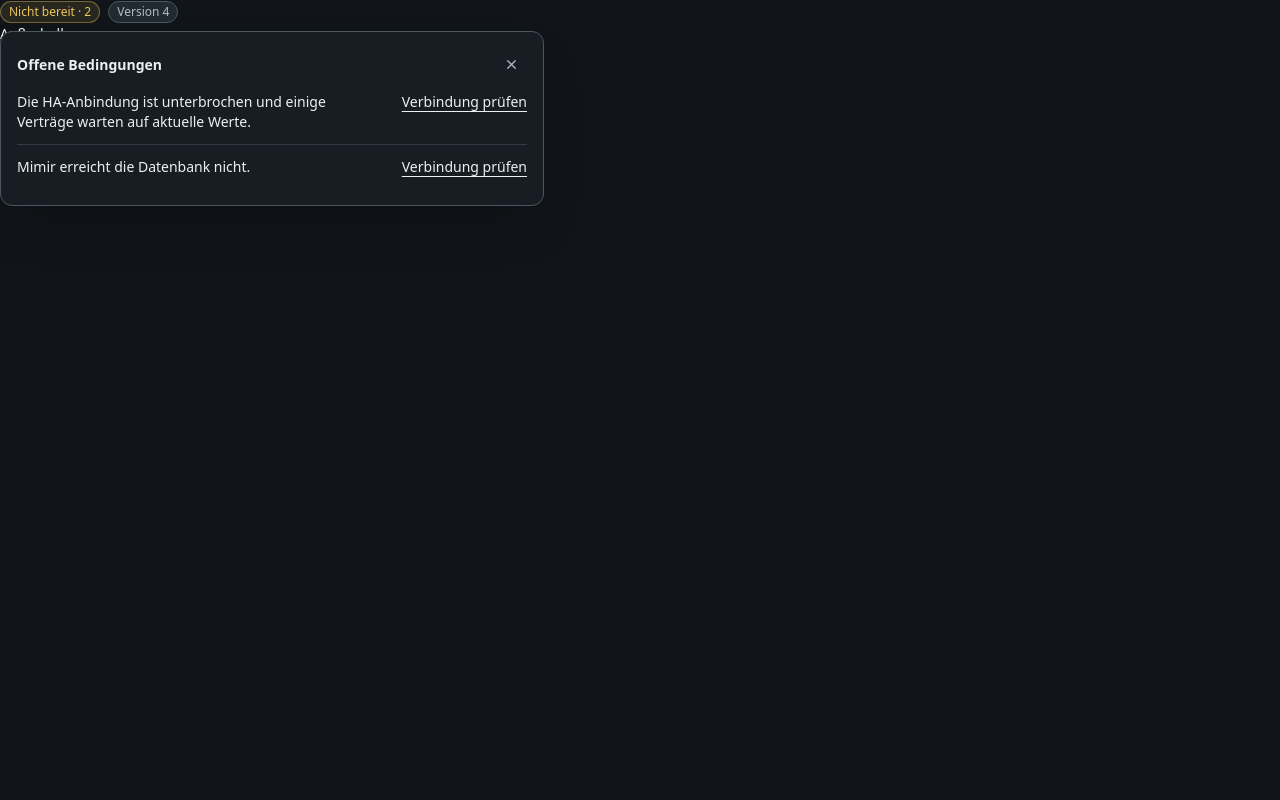
Test: counts each condition and exposes an actionable sentence and direct route on click
This screenshot has width=1280, height=800.
Click the button "Nicht bereit · 2".
click(50, 12)  # box [0,0,100,23]
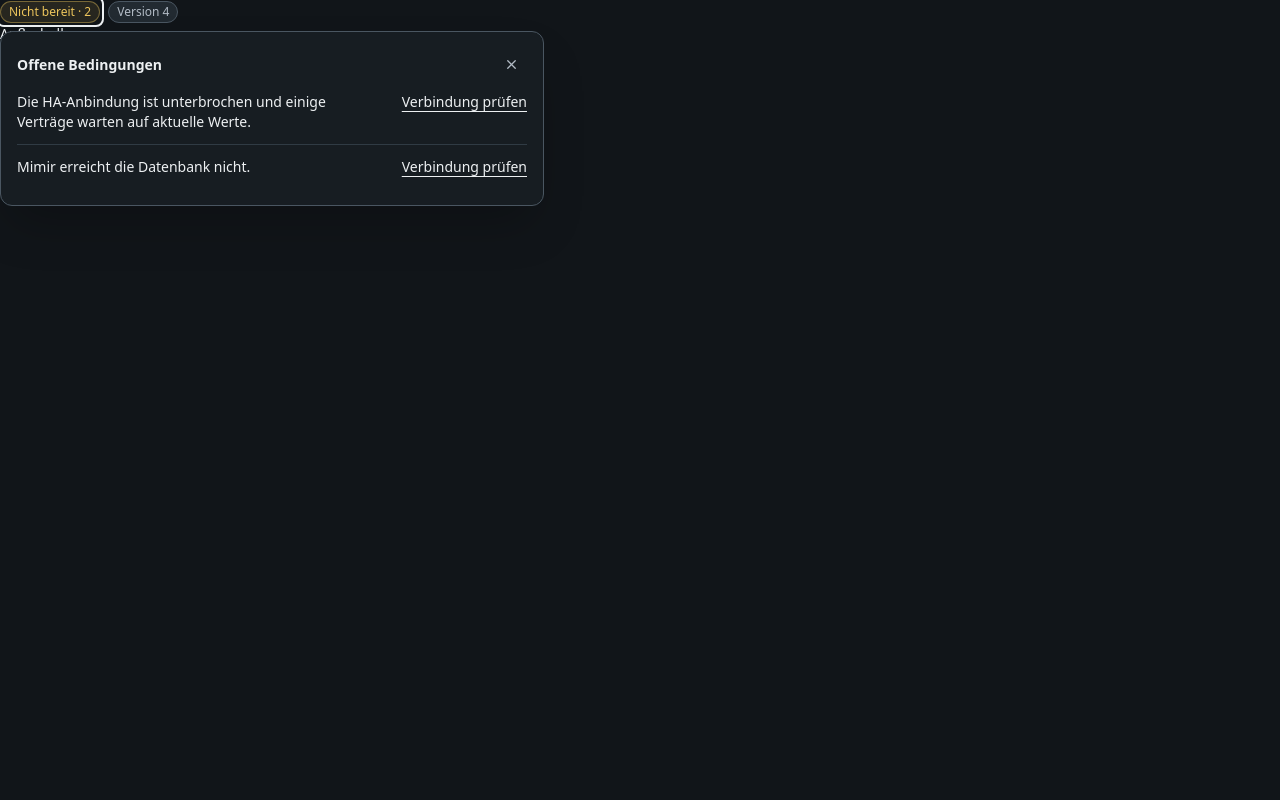
Expected: the text "Mimir erreicht die Datenbank nicht." is shown, [17,157,250,177]
Expected: the number of links "Verbindung prüfen" is 2, [402,92,527,112]; [402,157,527,177]
Press Escape
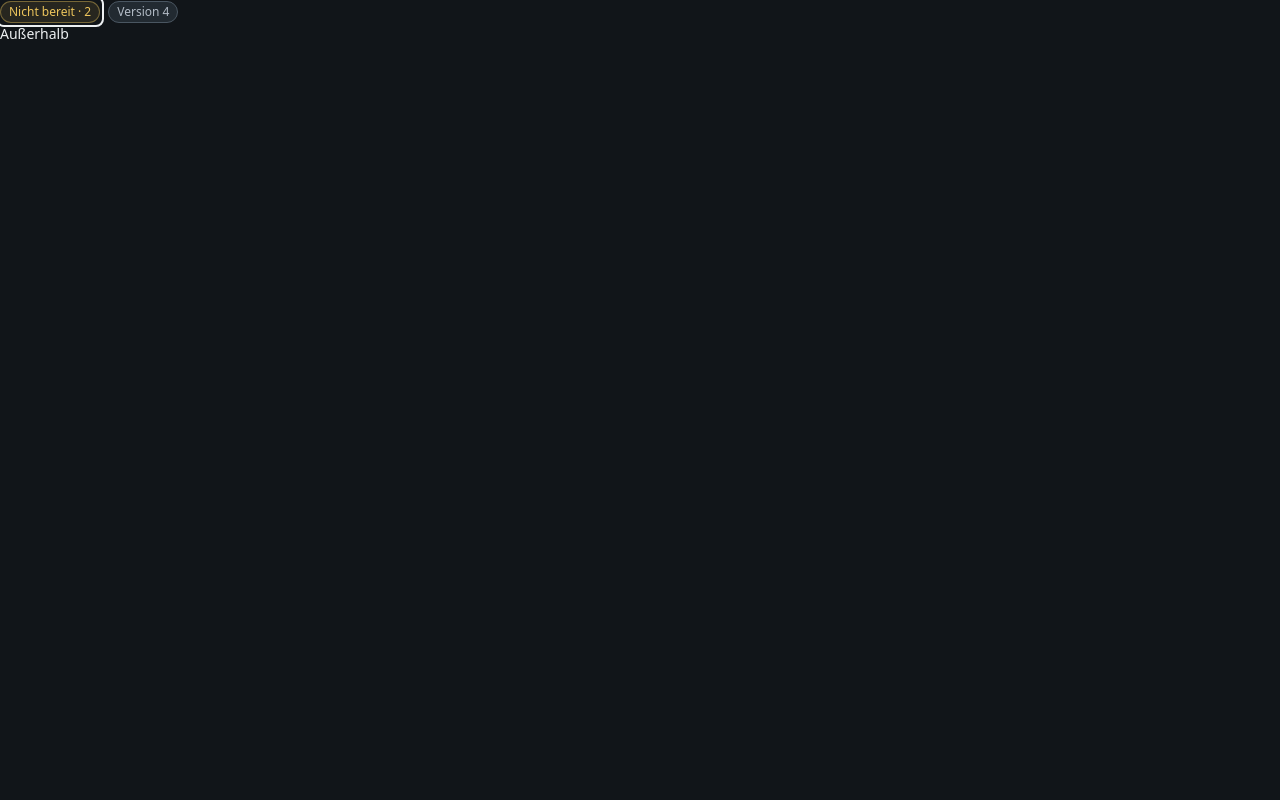
Result: the dialog is gone
